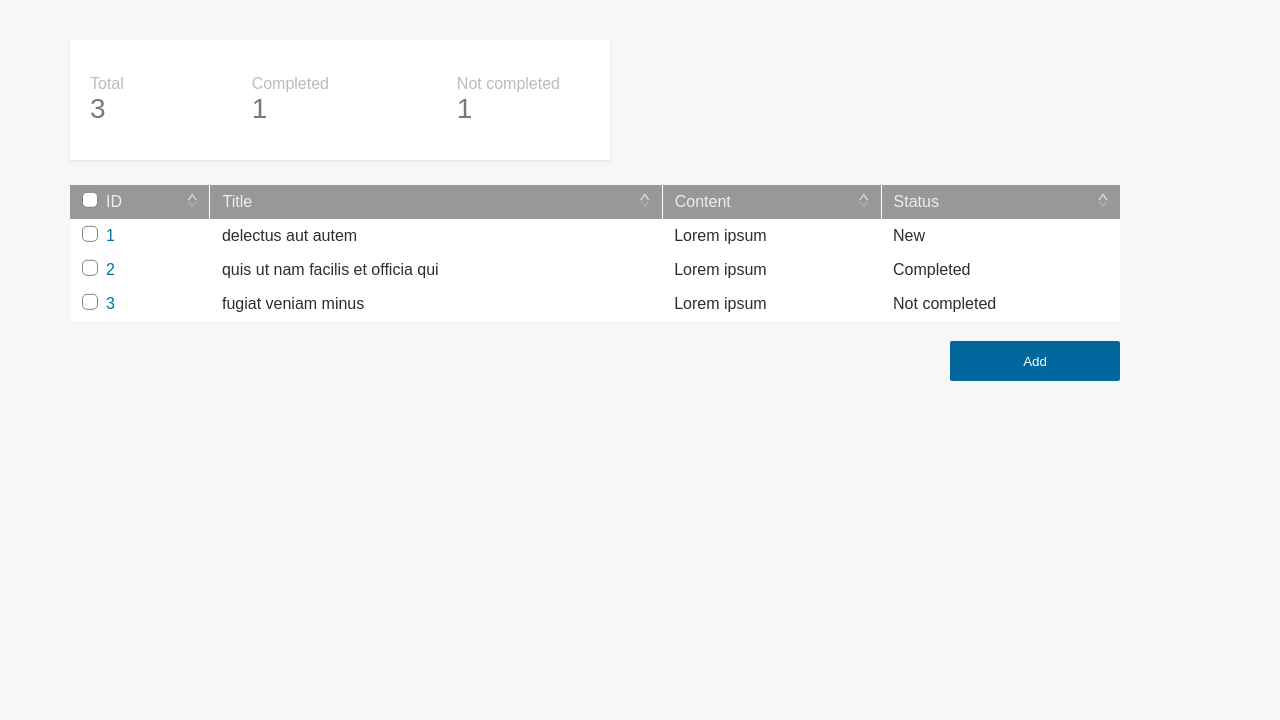
Test: Delete Notes › Delete all notes
The image size is (1280, 720).
expect the text "delectus aut autem" is shown: met, box [210, 219, 662, 253]
expect the text "fugiat veniam minus" is shown: met, box [210, 287, 662, 321]
Step 1. Click the checkbox with test id "checkbox-main" → coordinates (90, 200), box [82, 192, 98, 208]
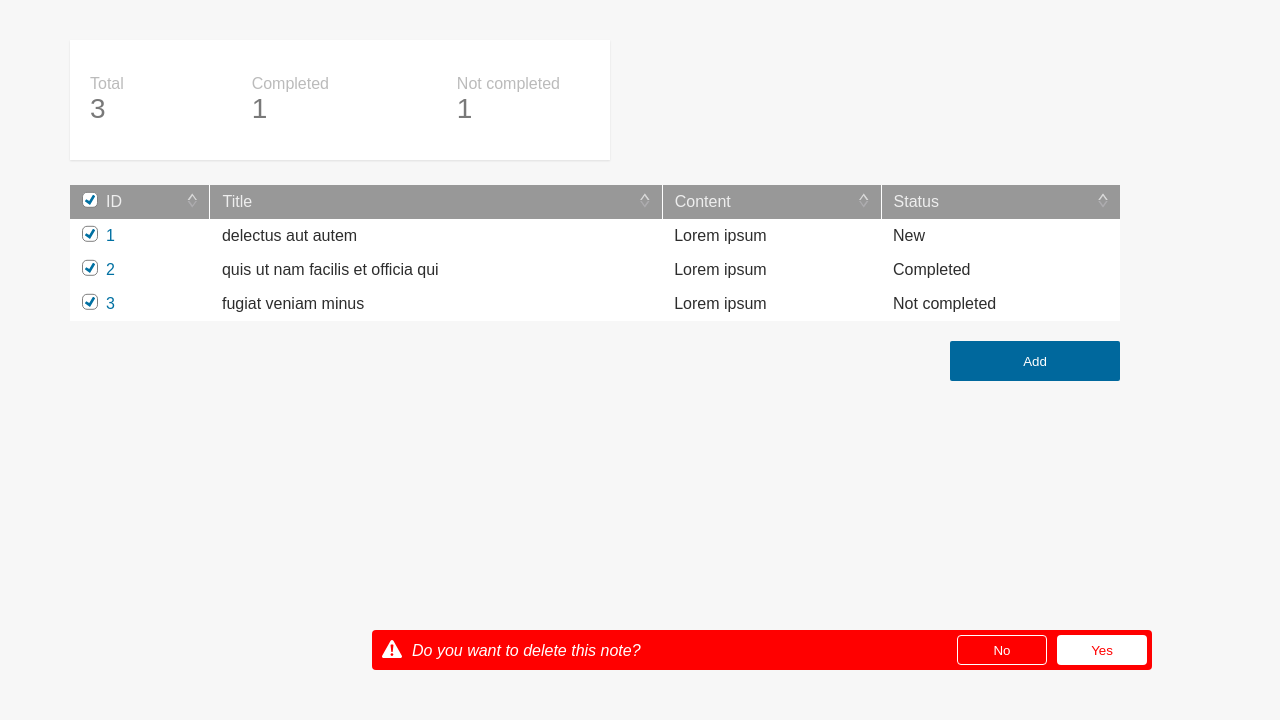
expect the text "Do you want to delete this note?" is shown: met, box [412, 638, 641, 662]
Step 2. Click the button with test id "yes-delete" → coordinates (1102, 650), box [1057, 635, 1147, 665]
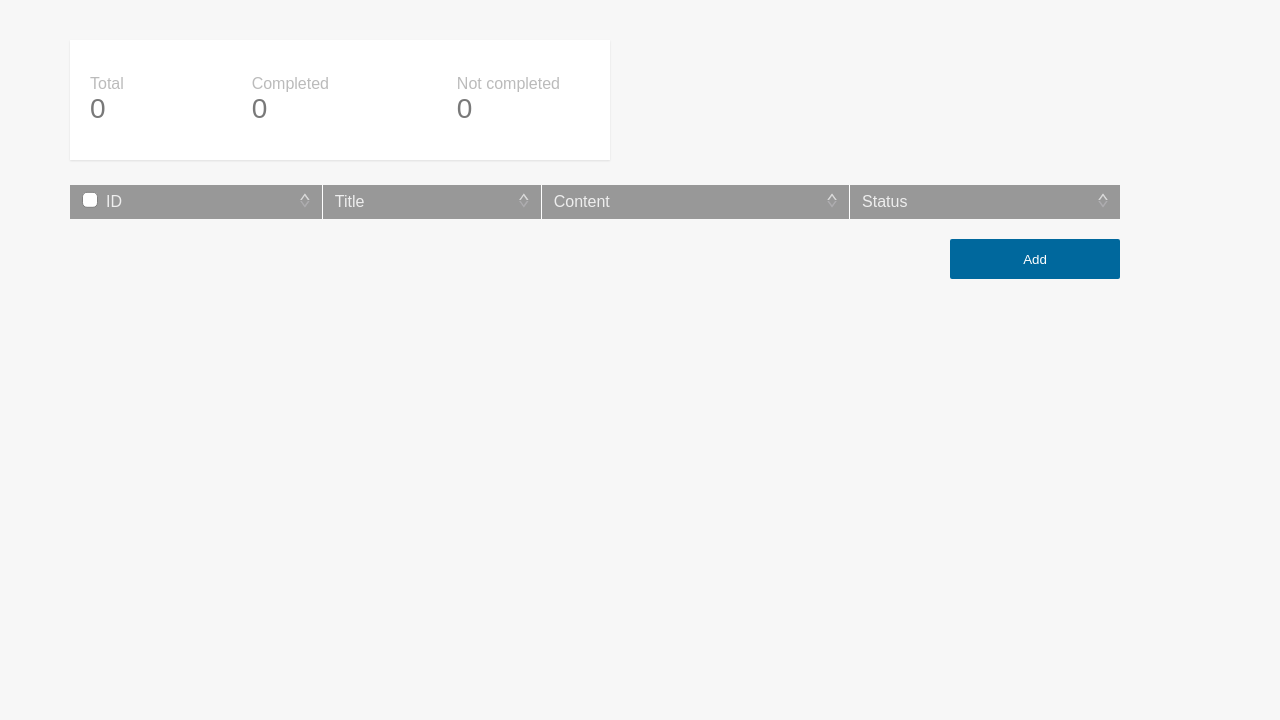
expect the text "delectus aut autem" is gone: met
expect the text "fugiat veniam minus" is gone: met
expect the text "quis ut nam facilis et officia qui" is gone: met
